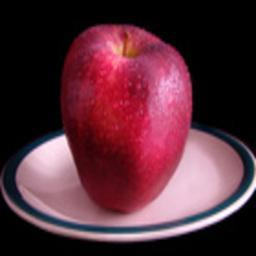apple: (62, 24, 195, 214)
